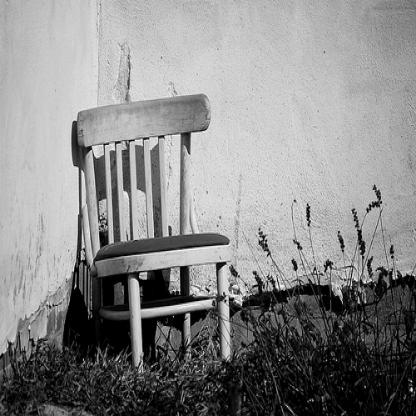chair: (74, 91, 234, 379)
